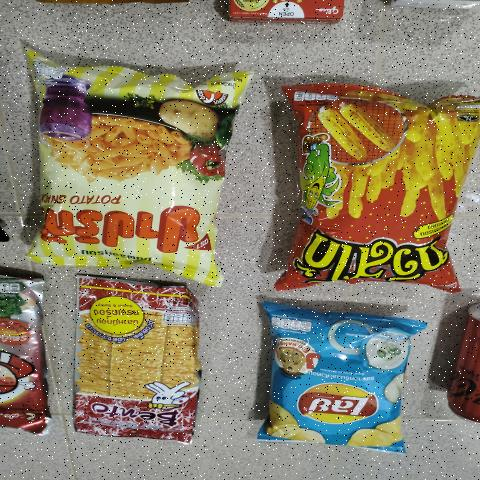bento_red: (68, 282, 197, 436)
lay_blue: (278, 318, 398, 454)
paprika: (35, 61, 203, 272)
twisco: (290, 92, 454, 286)
